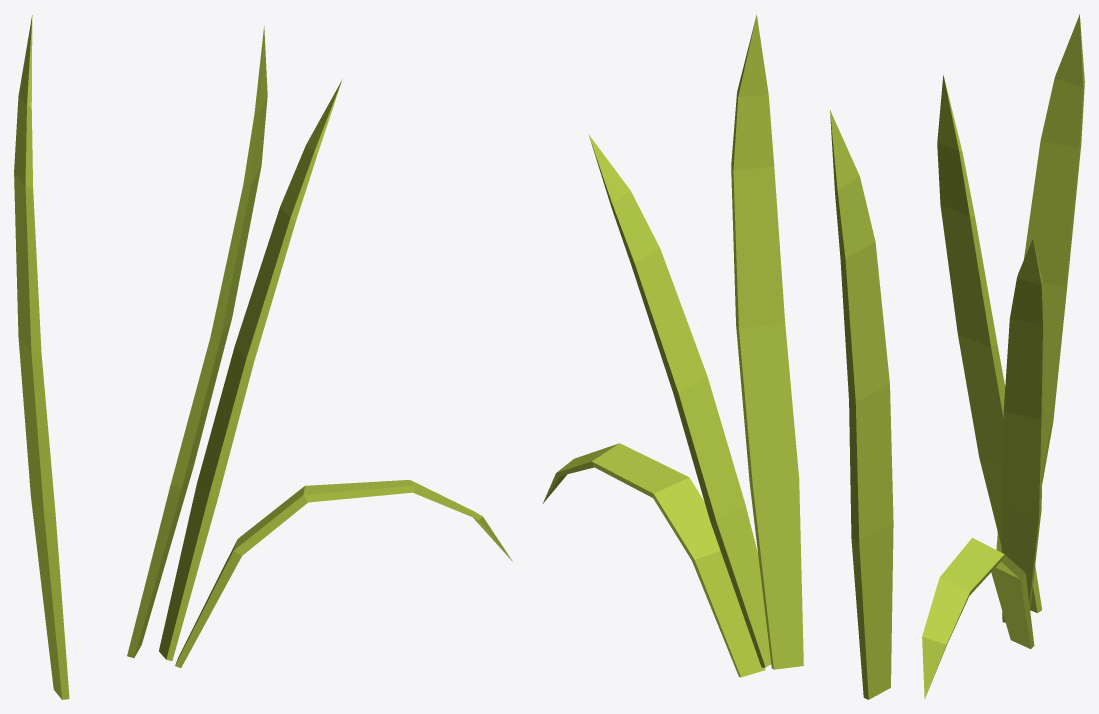
File: grass_04.fbx
The picture shows the model from 3 angles, left to right: view 1: azimuth 30°, elevation 25°; view 2: azimuth 150°, elevation 25°; view 3: azimuth 270°, elevation 25°; orthographic projection. The views are drawn at different scales.
Visible parts, largest first — view 1: grass_004; view 2: grass_004; view 3: grass_004.
Boxes of the visible parts, box(x1,y1,x2,y2) form: grass_004: box(14, 15, 512, 699); grass_004: box(542, 14, 893, 699); grass_004: box(922, 14, 1084, 699).
Size of the model in its own units: 41.86 by 62.2 by 15.61.
